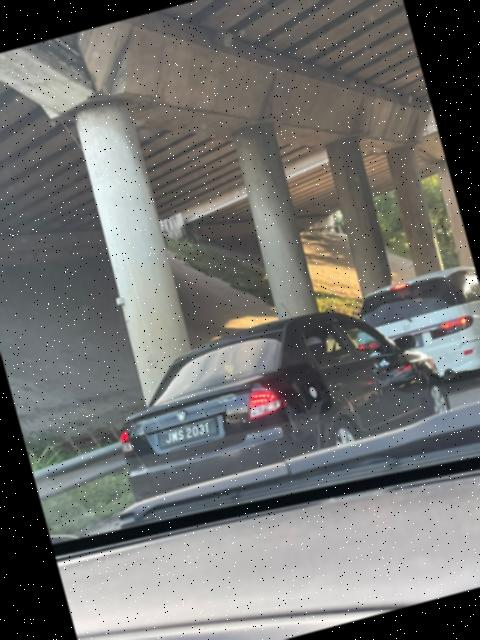License_Plate: (153, 413, 224, 454)
car: (98, 285, 463, 515), (351, 257, 480, 400)
